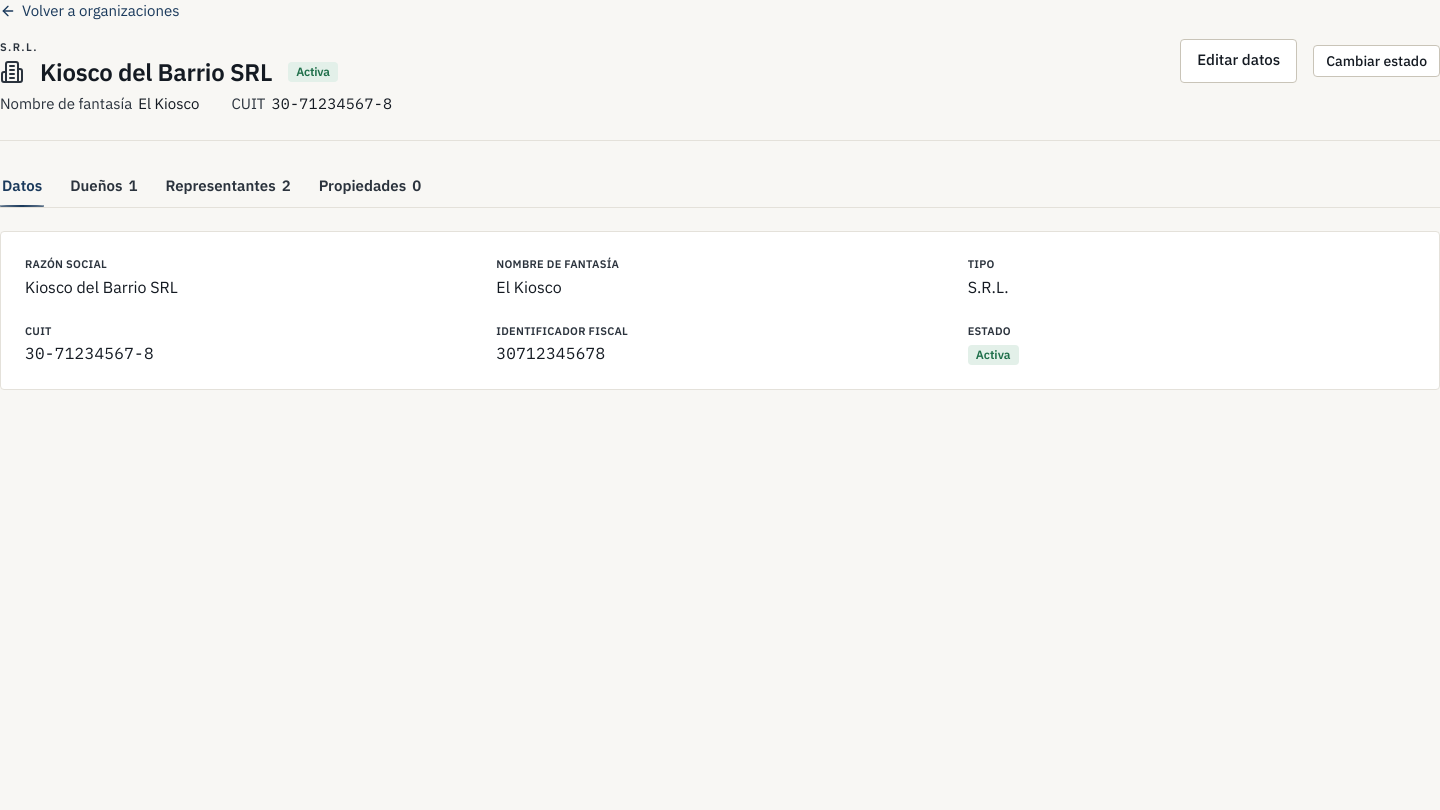
dueños › muestra la resta en vivo antes de confirmar
Click the tab "Dueños1". click: (104, 186)
box: [68,164,139,207]
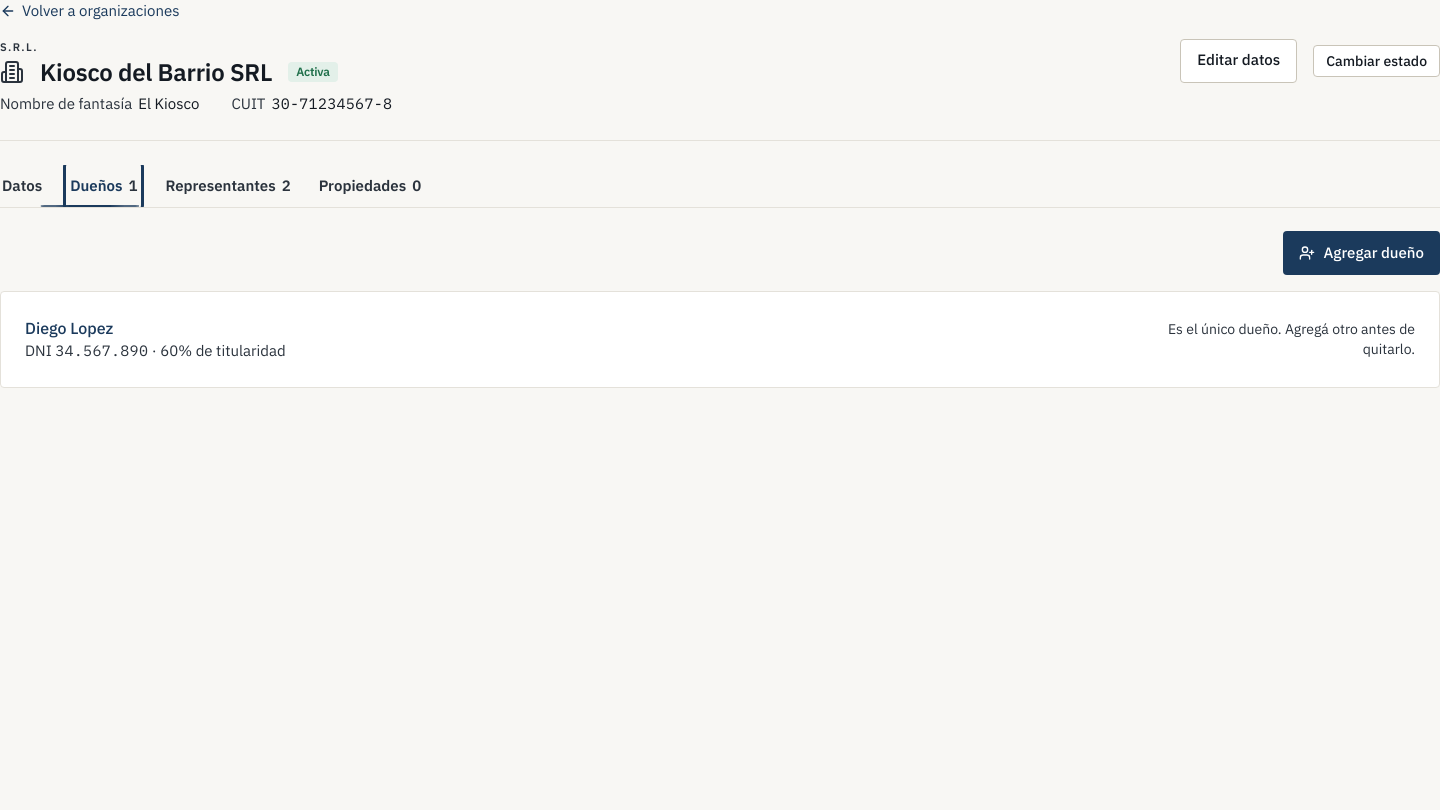
Click the button "Agregar dueño". click: (1362, 253)
box: [1283,231,1439,275]
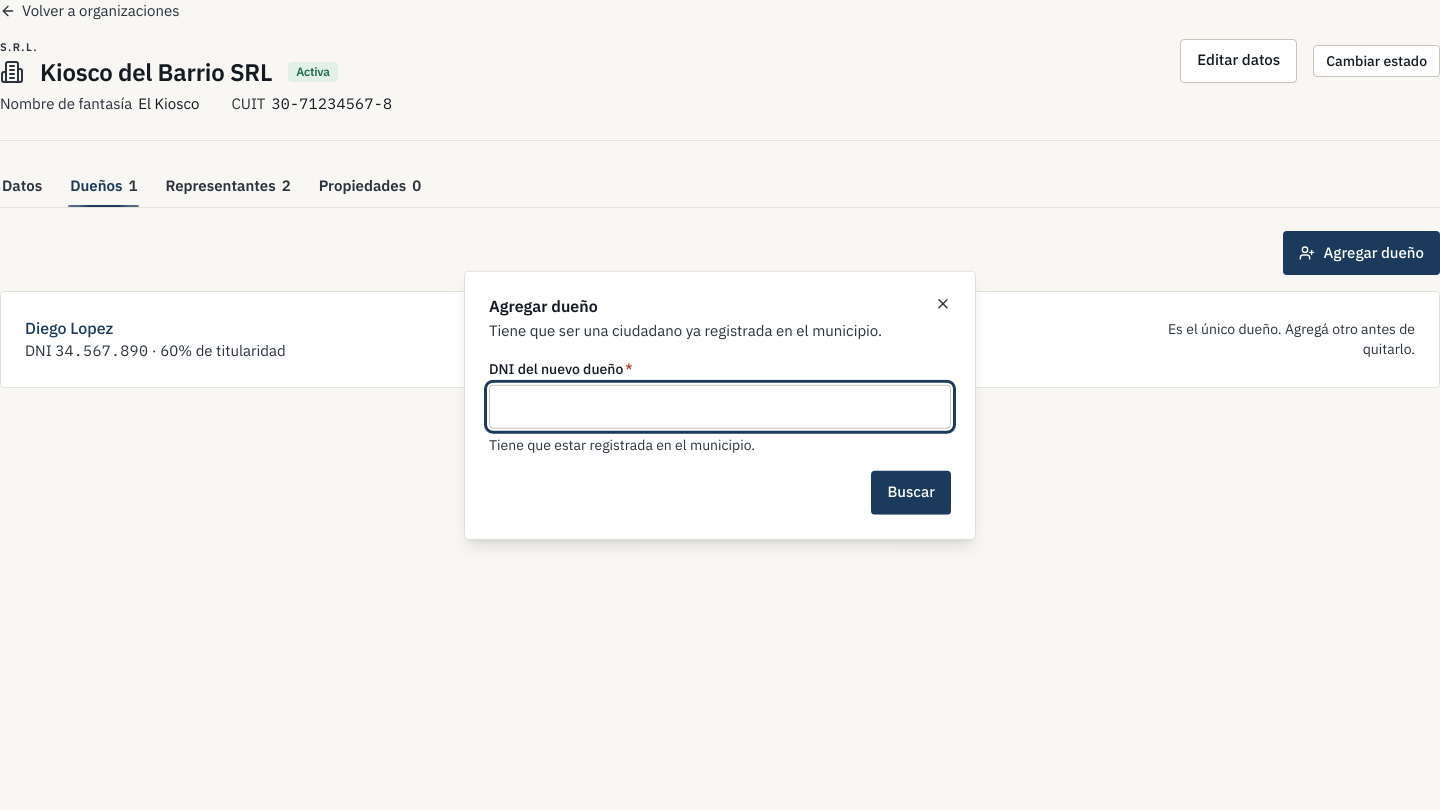
Type "40123456" into the field labelled "DNI del nuevo dueño". click: (720, 406)
box: [489,384,951,428]
Click the button "Buscar". click: (911, 492)
box: [871,470,951,514]
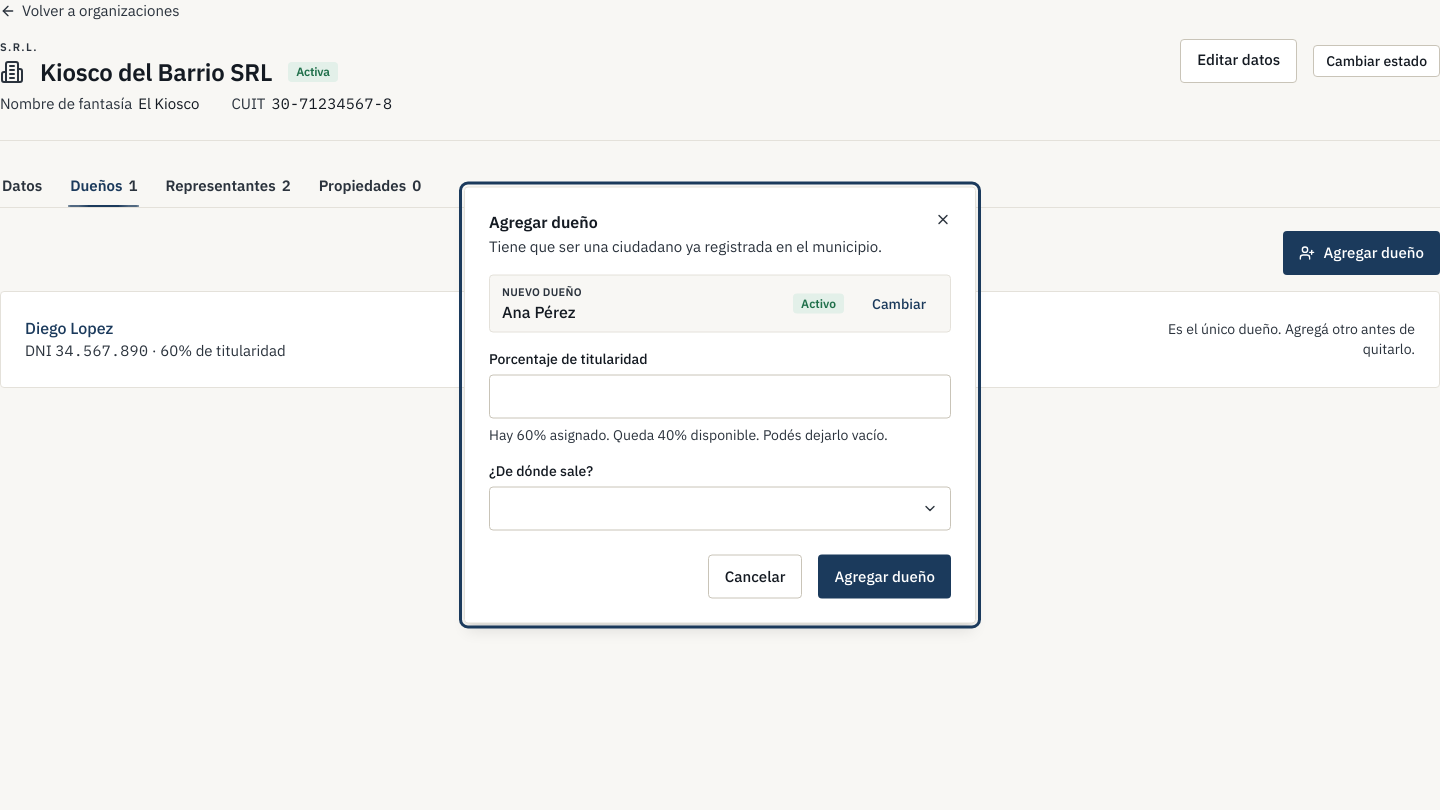
Result: the number field labelled "Porcentaje de titularidad" is shown
Type "20" into the number field labelled "Porcentaje de titularidad". click: (720, 396)
box: [489,374,951,418]
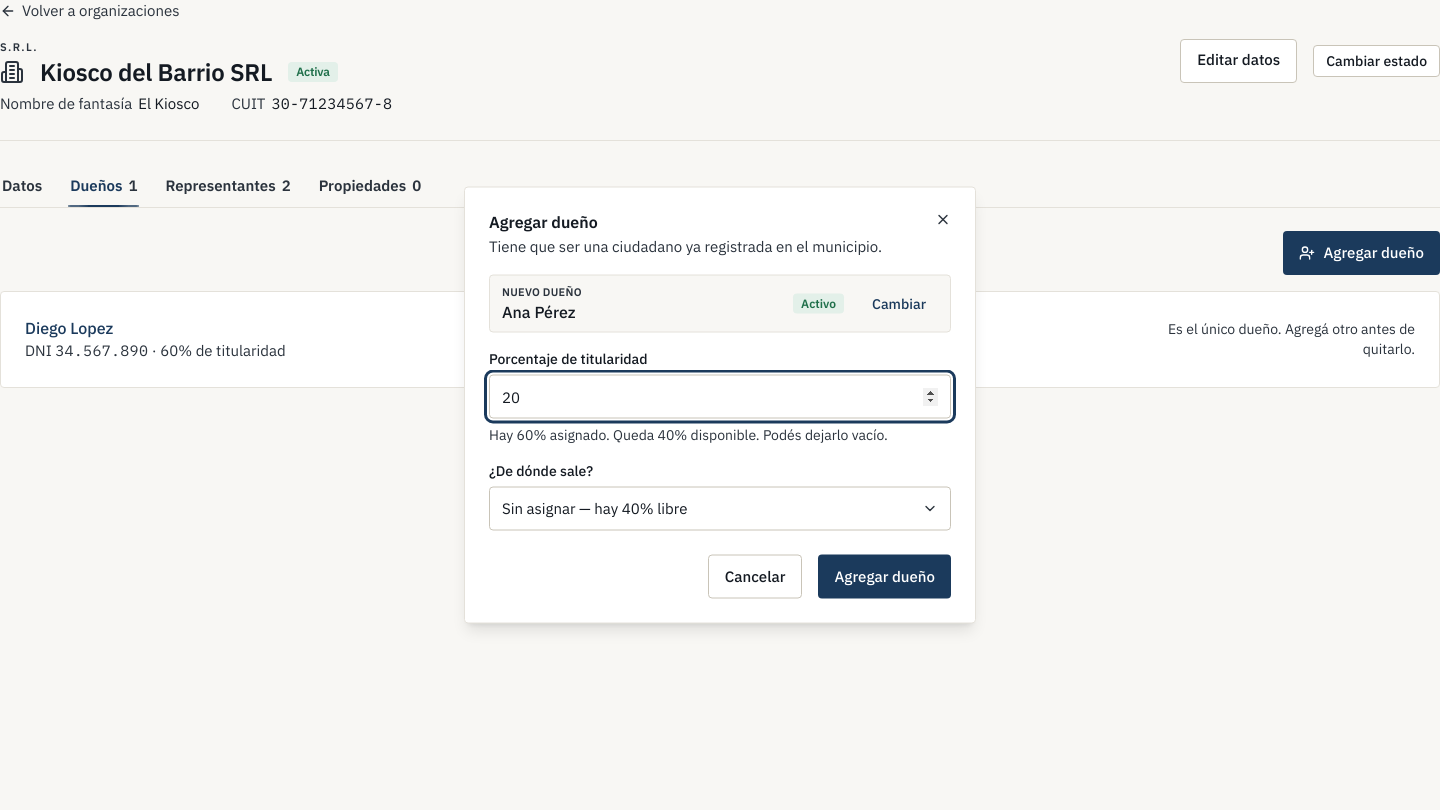
Press the mouse on the dropdown named "¿De dónde sale?" at (595, 508), box [489,486,951,530]
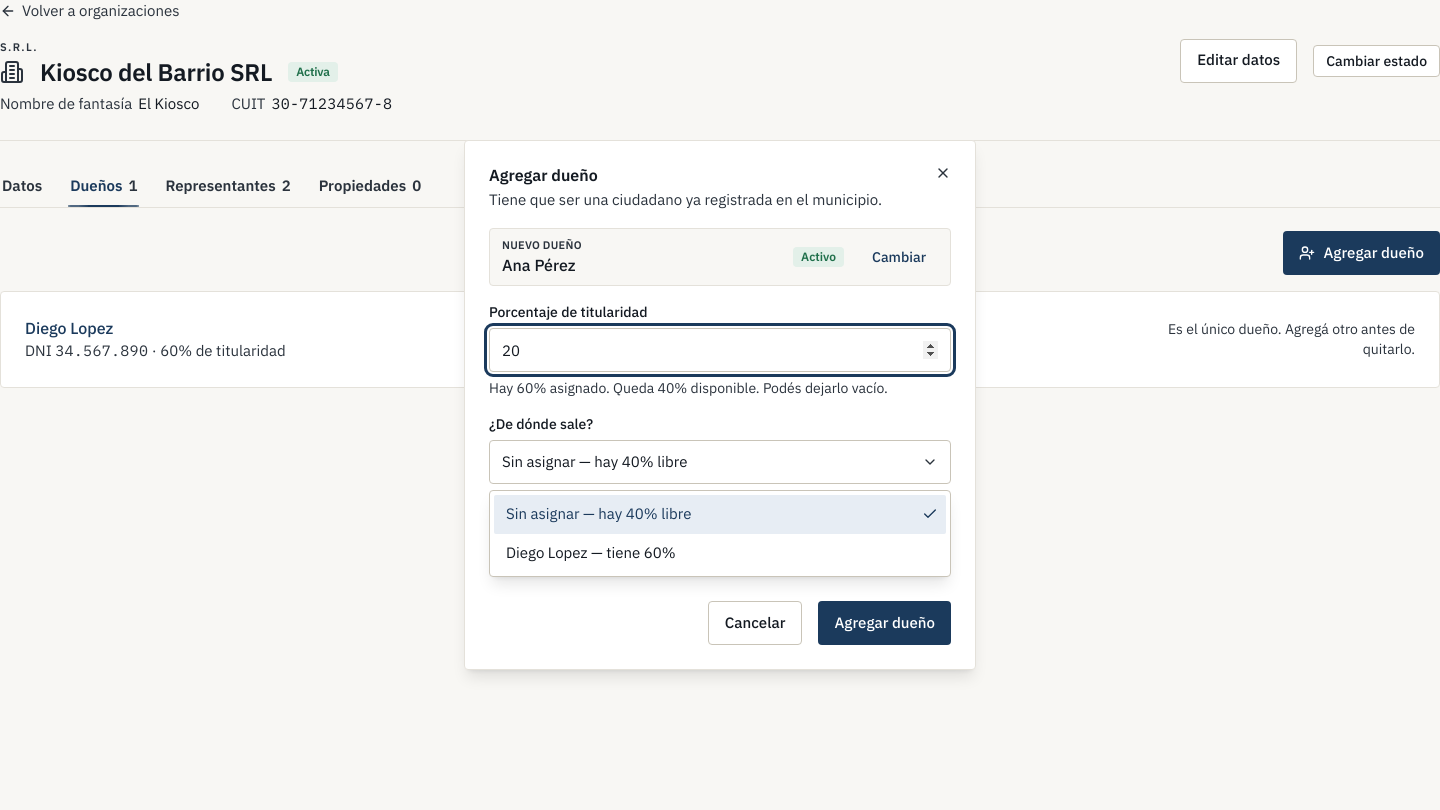
Click the option "Diego Lopez — tiene 60%". click: (591, 552)
box: [506,542,676,562]
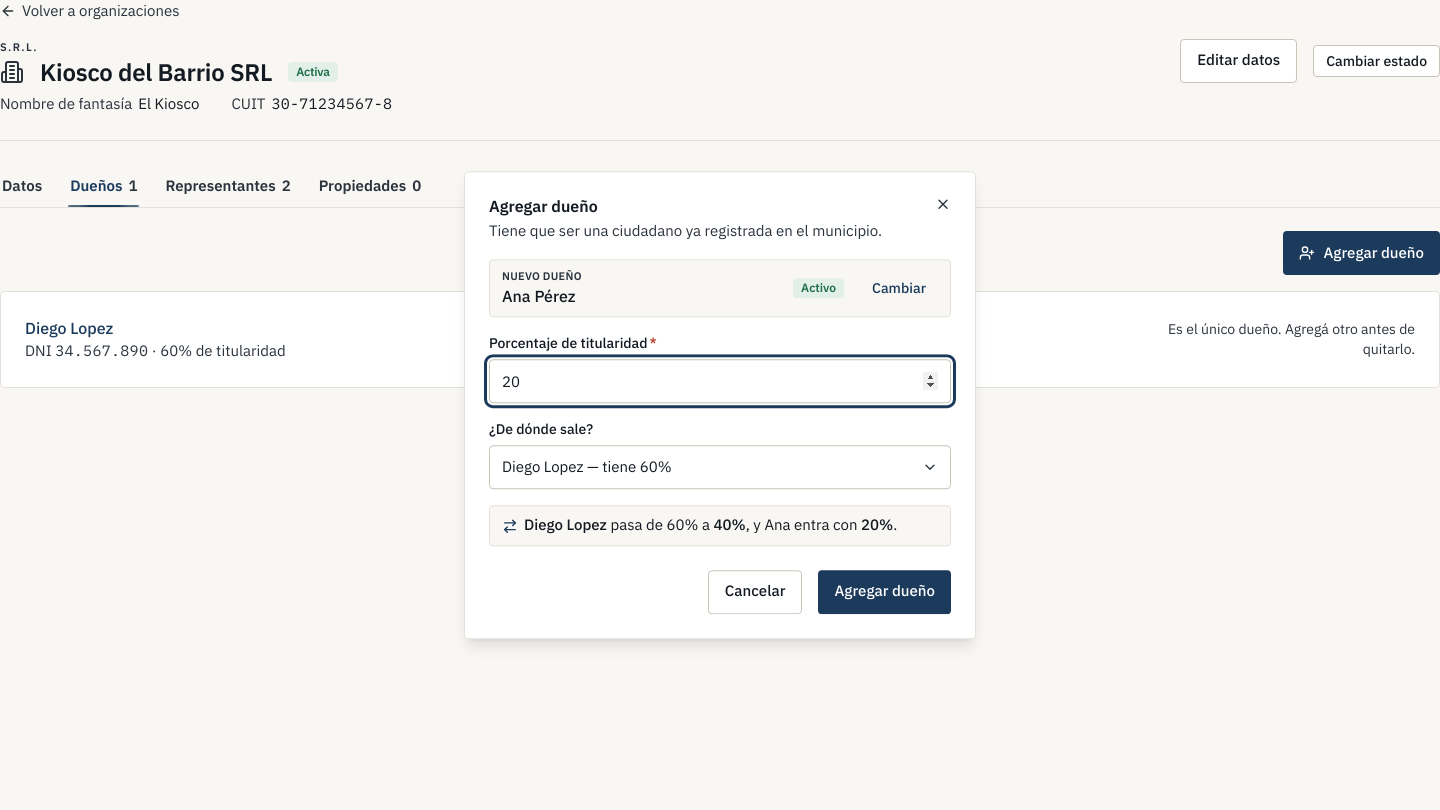
Result: the text "Diego Lopez pasa de 60% a 40%, y Ana entra con 20%." is shown at [489,505,951,546]
